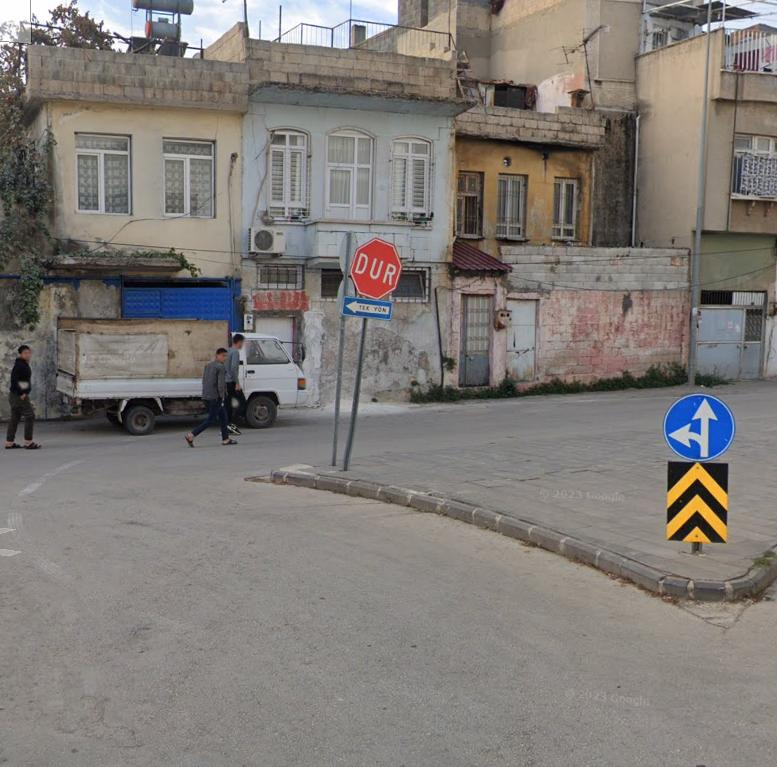stop: (349, 240, 405, 300)
